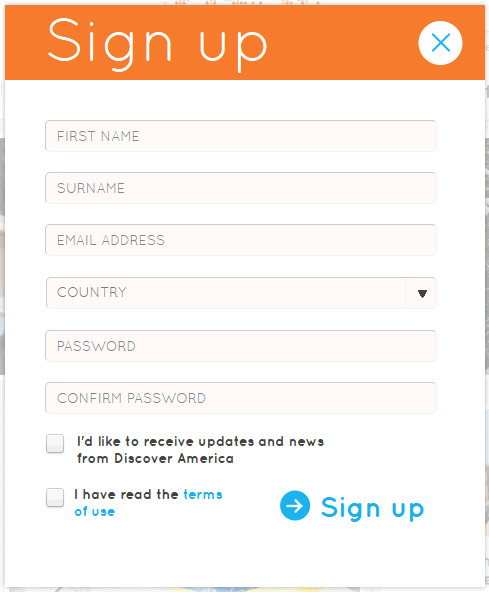_form_: (35, 6, 451, 422), (32, 270, 445, 554)
checkbox: (45, 433, 65, 456), (45, 488, 67, 508)
checkbox_with_label: (42, 432, 325, 467), (43, 486, 225, 517)
field: (45, 329, 439, 364), (44, 171, 438, 204), (45, 277, 438, 310), (43, 119, 439, 151), (45, 383, 439, 415), (45, 224, 439, 254)
